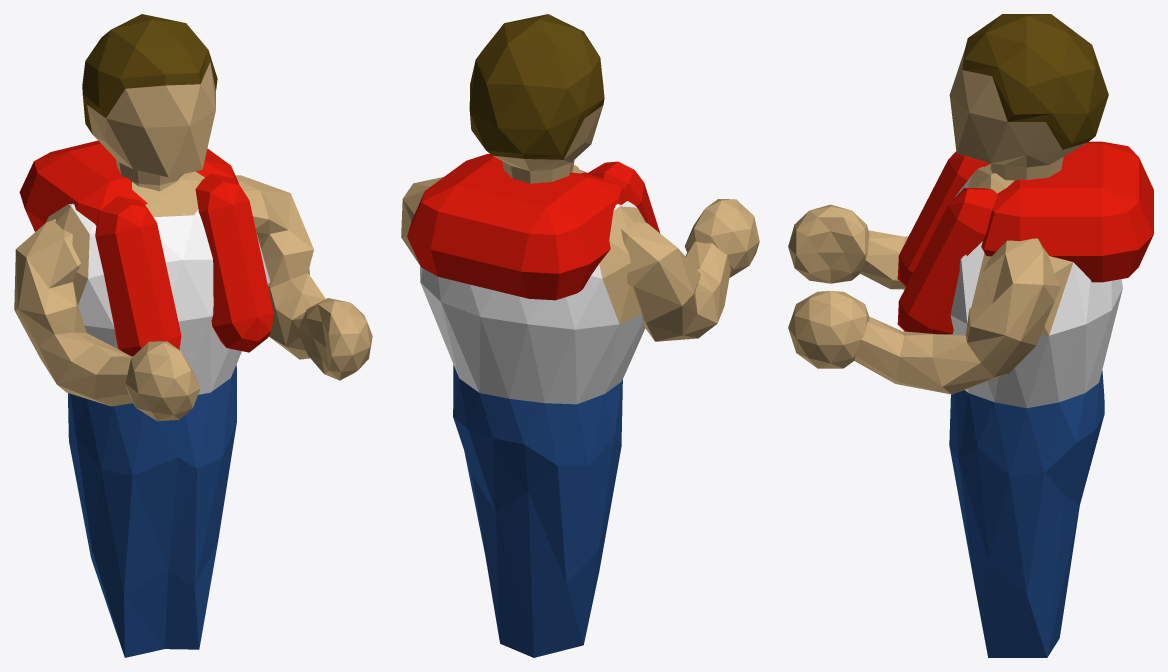
File: Player.FBX
3 views of the same model, side by side, from view 1: azimuth 30°, elevation 25°; view 2: azimuth 150°, elevation 25°; view 3: azimuth 270°, elevation 25° (orthographic).
Visible parts, largest first — view 1: GeoSphere002; view 2: GeoSphere002; view 3: GeoSphere002.
Boxes of the visible parts, x1=… form: GeoSphere002: x1=14, y1=14, x2=372, y2=657; GeoSphere002: x1=401, y1=14, x2=759, y2=657; GeoSphere002: x1=788, y1=14, x2=1153, y2=657.
Bounding box in the file's own units: 43.16 × 89.06 × 47.02.
